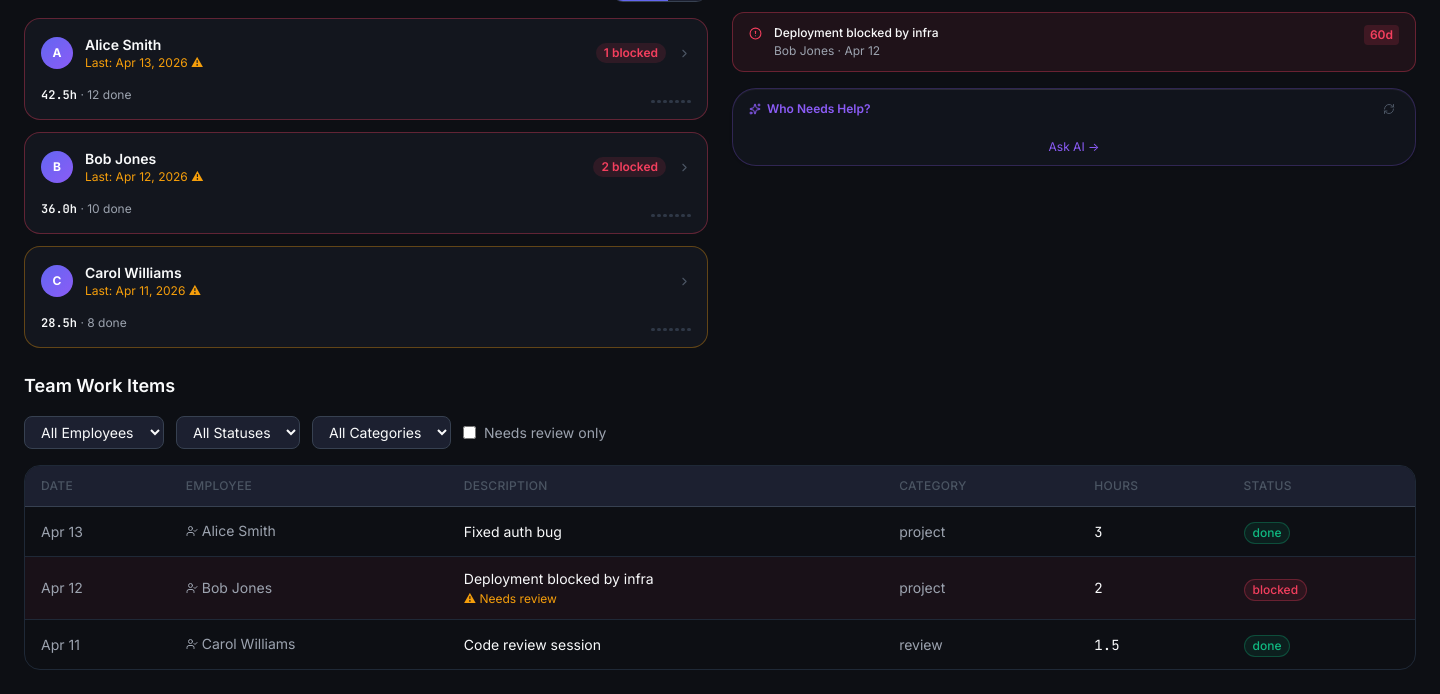
Test: TeamDashboardPage — team work items table › status filter hides non-matching rows
The image size is (1440, 694).
(page scrolled)
Check: the text "Fixed auth bug" is shown, box left=464, top=522, right=562, bottom=540
Select "blocked" in the dropdown named "filter by status" at (238, 432), box left=176, top=416, right=300, bottom=449
(page scrolled)
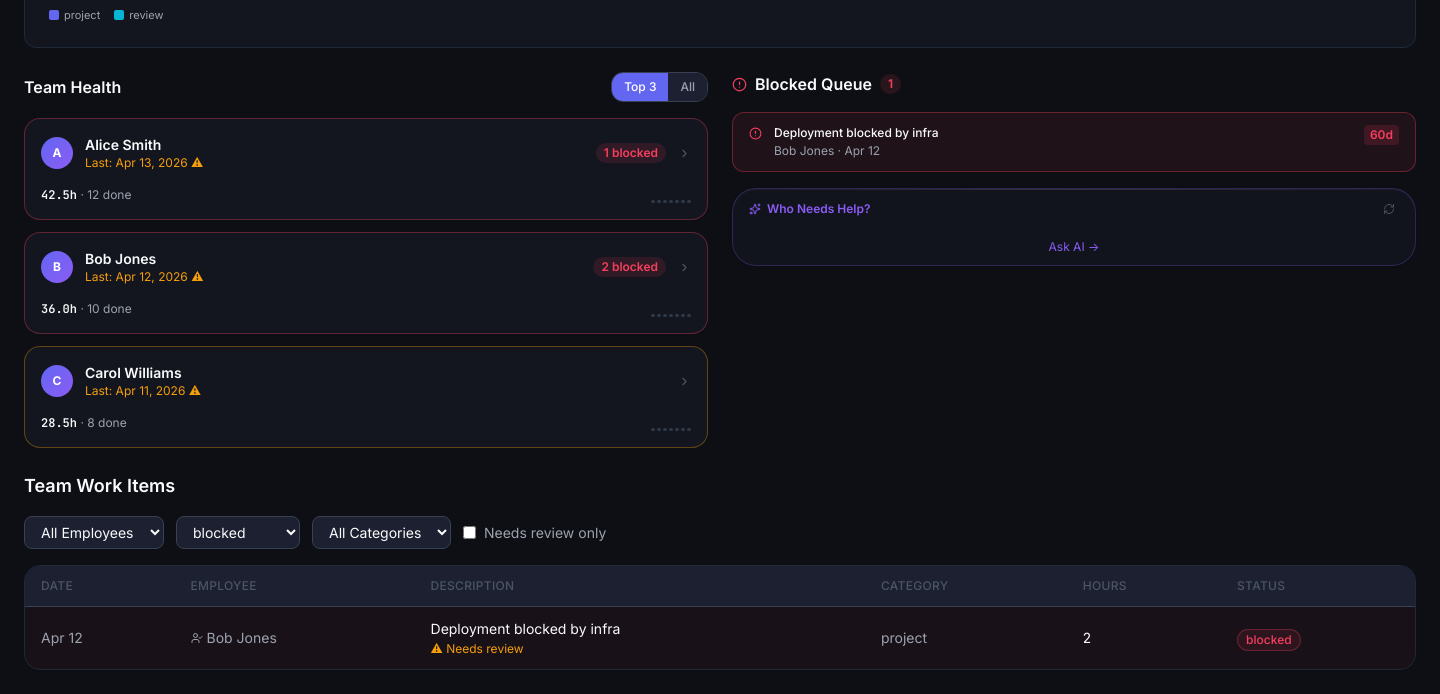
Check: the text "Deployment blocked by infra" below "Blocked Queue" is shown, box left=774, top=125, right=938, bottom=140
Check: the text "Fixed auth bug" is gone
